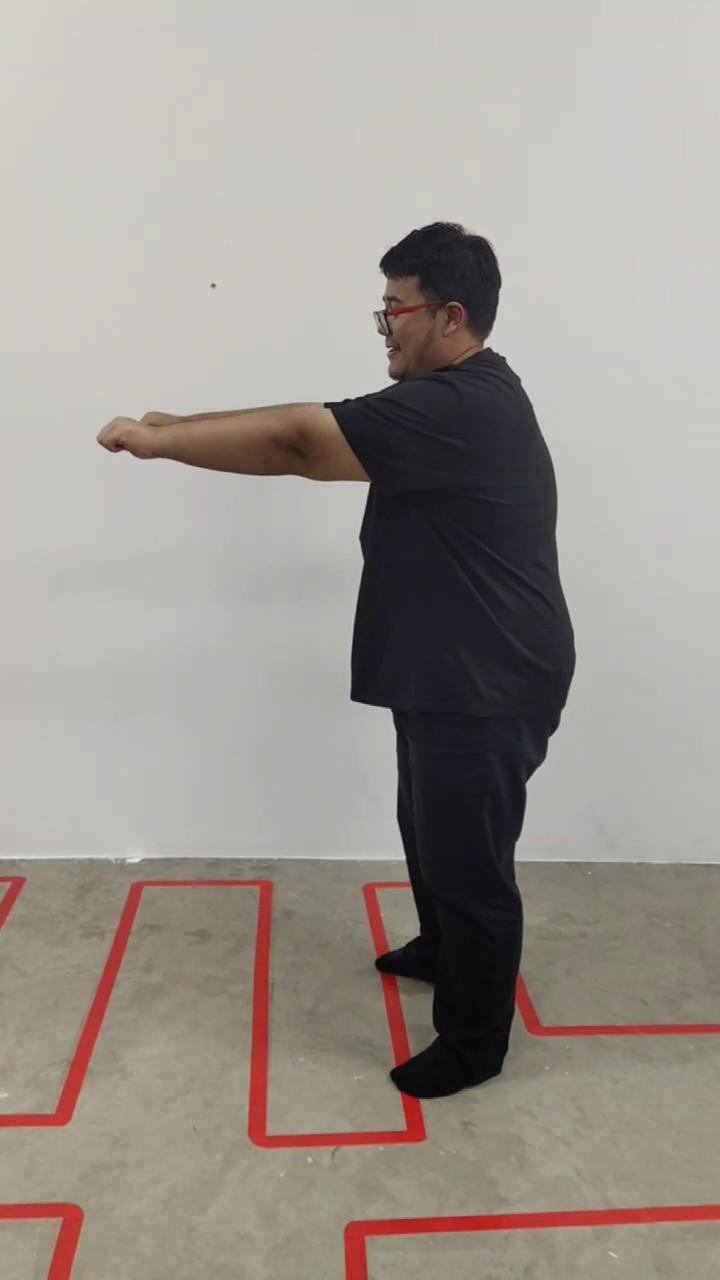squat up: (99, 219, 577, 1102)
